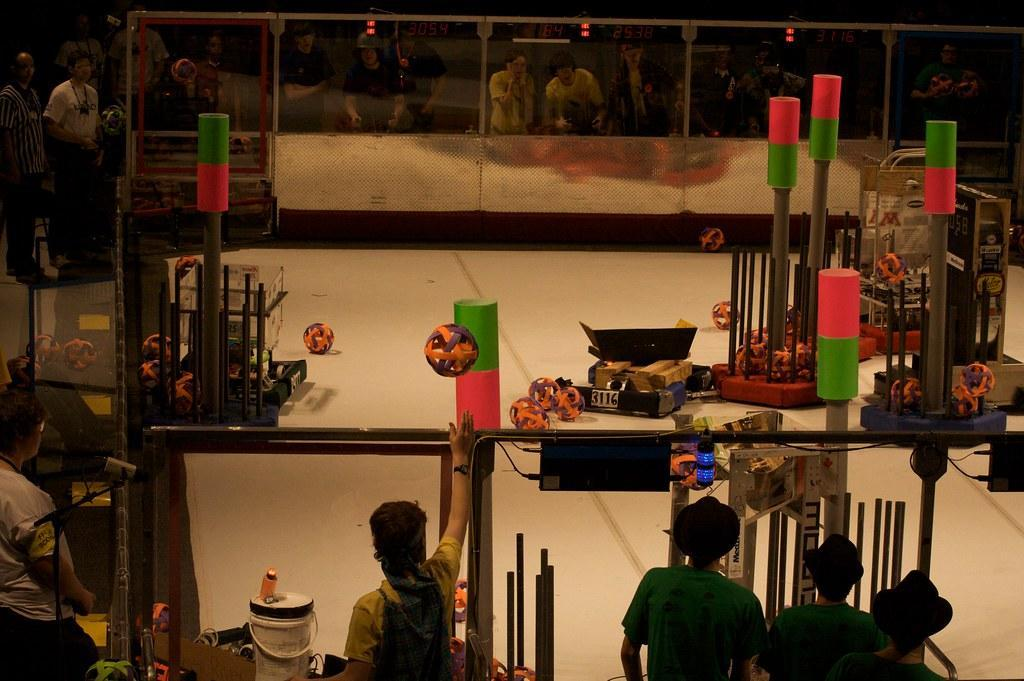robot: (545, 313, 722, 419)
